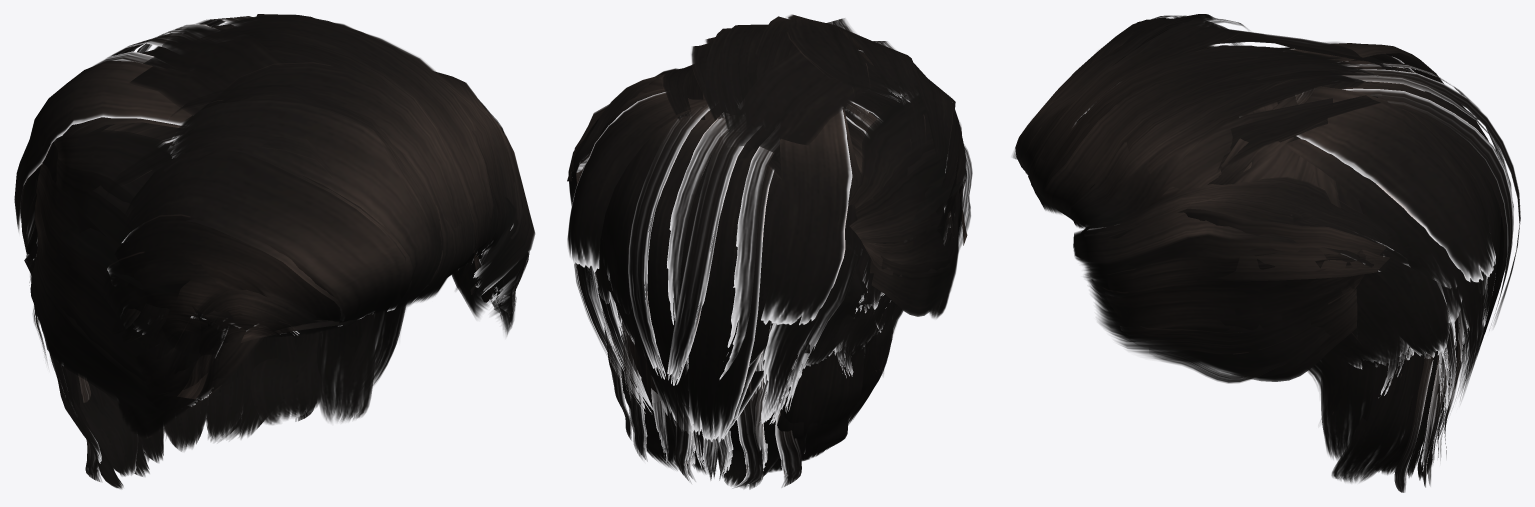
Rendered from diamond_wavy_02_1.glb.
3 renders of one model, left to right at view 1: azimuth 30°, elevation 25°; view 2: azimuth 150°, elevation 25°; view 3: azimuth 270°, elevation 25°, orthographic. The views are drawn at different scales.
Parts seen in each view (by area): view 1: COMB OVER; view 2: COMB OVER; view 3: COMB OVER.
Boxes of the visible parts, x1,y1,x2,y2 form: COMB OVER: (14,14,535,489); COMB OVER: (567,14,972,489); COMB OVER: (1012,14,1520,492).
Bounding box in the file's own units: 0.2005 × 0.2202 × 0.2393.
1 material, 1 textured.
